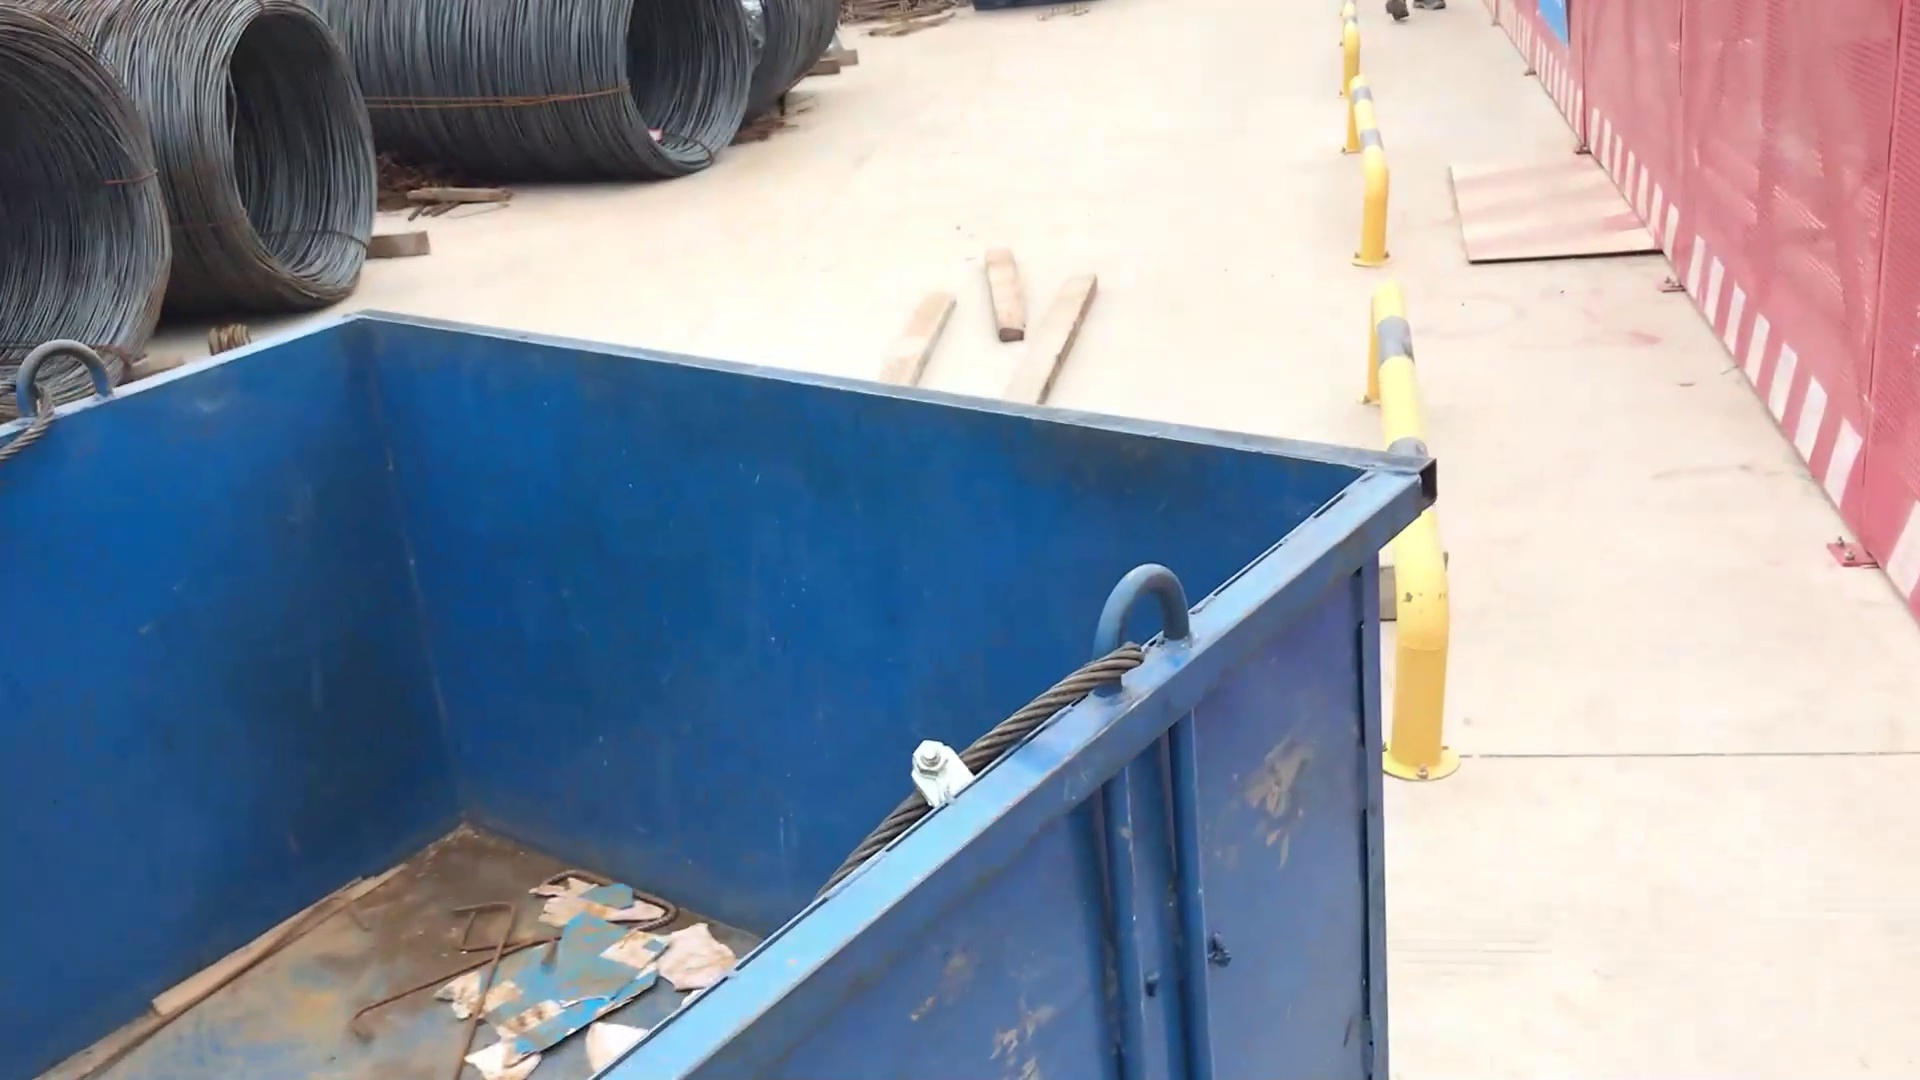fence: (1469, 3, 1920, 645)
hopper: (1, 293, 1455, 1079)
